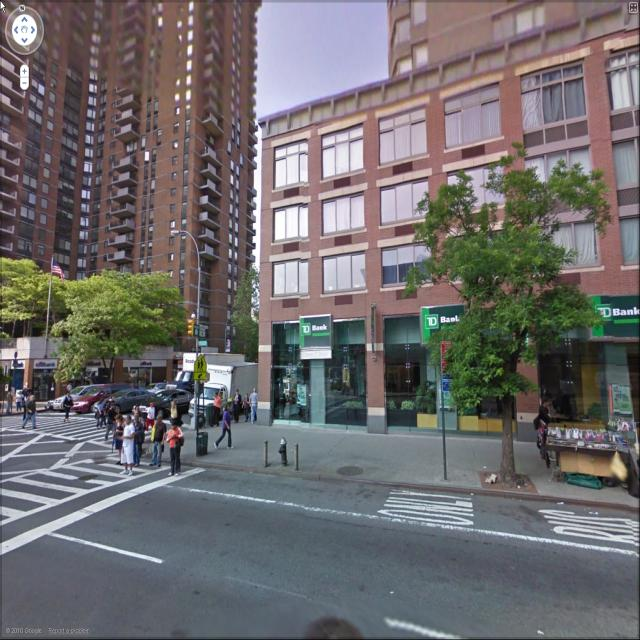b_1: (7, 1, 253, 338), (380, 1, 640, 54)
b_2: (256, 44, 635, 428), (2, 1, 238, 390)
